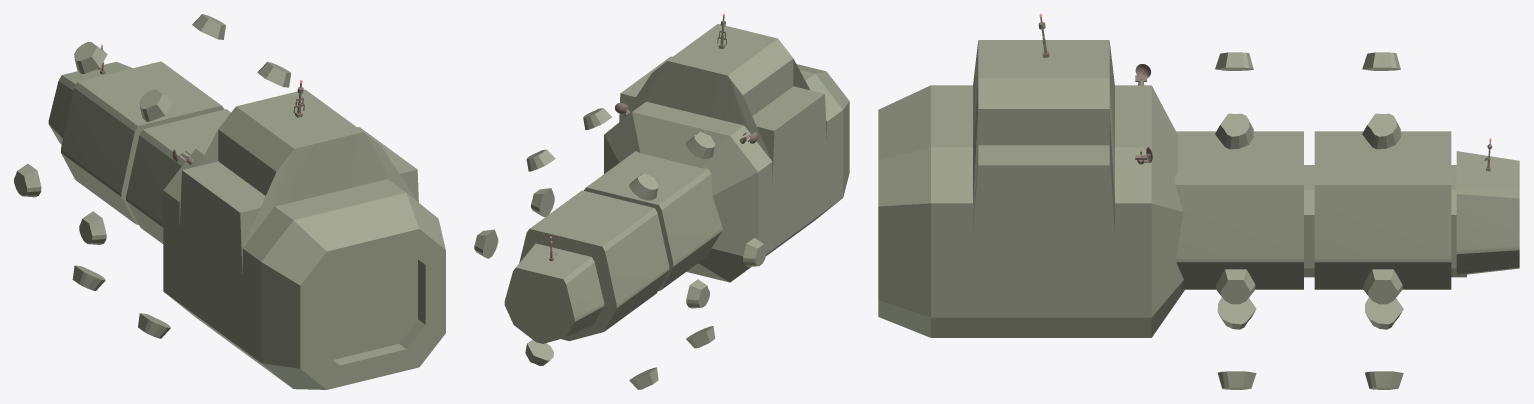
File: vos_drum.glb
3 renders of one model, left to right at view 1: azimuth 30°, elevation 25°; view 2: azimuth 150°, elevation 25°; view 3: azimuth 270°, elevation 25°, orthographic. The views are drawn at different scales.
Visible parts, largest first — view 1: hull, hull_metal_4a3a30; view 2: hull, hull_metal_4a3a30; view 3: hull, hull_metal_4a3a30.
Boxes of the visible parts, box(x1,y1,x2,y2) form: hull: box(14, 14, 445, 389); hull_metal_4a3a30: box(98, 46, 304, 164); hull: box(474, 24, 849, 389); hull_metal_4a3a30: box(549, 16, 758, 261); hull: box(878, 40, 1519, 389); hull_metal_4a3a30: box(1038, 17, 1492, 171).
Size of the model in its own units: 64 by 72.51 by 122.
